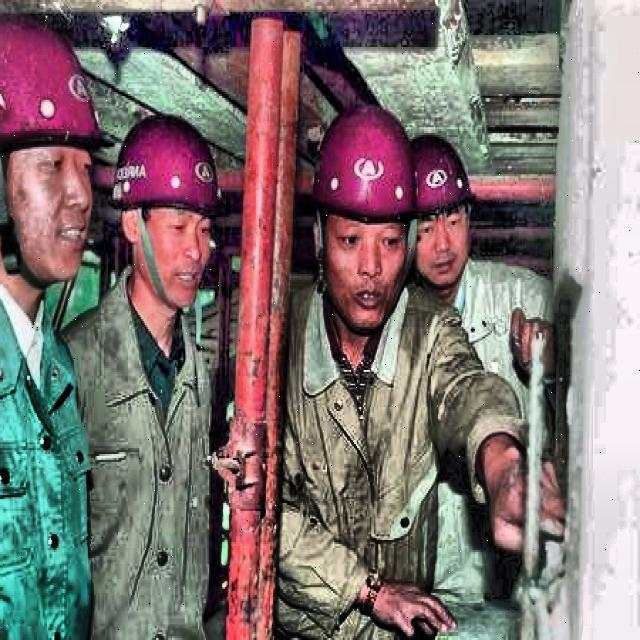helmet: (1, 12, 106, 282), (308, 102, 416, 331), (108, 108, 219, 322), (397, 130, 479, 294)
